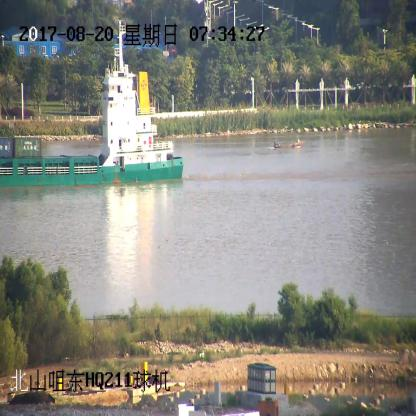Bulk Carrier: (0, 44, 184, 185)
